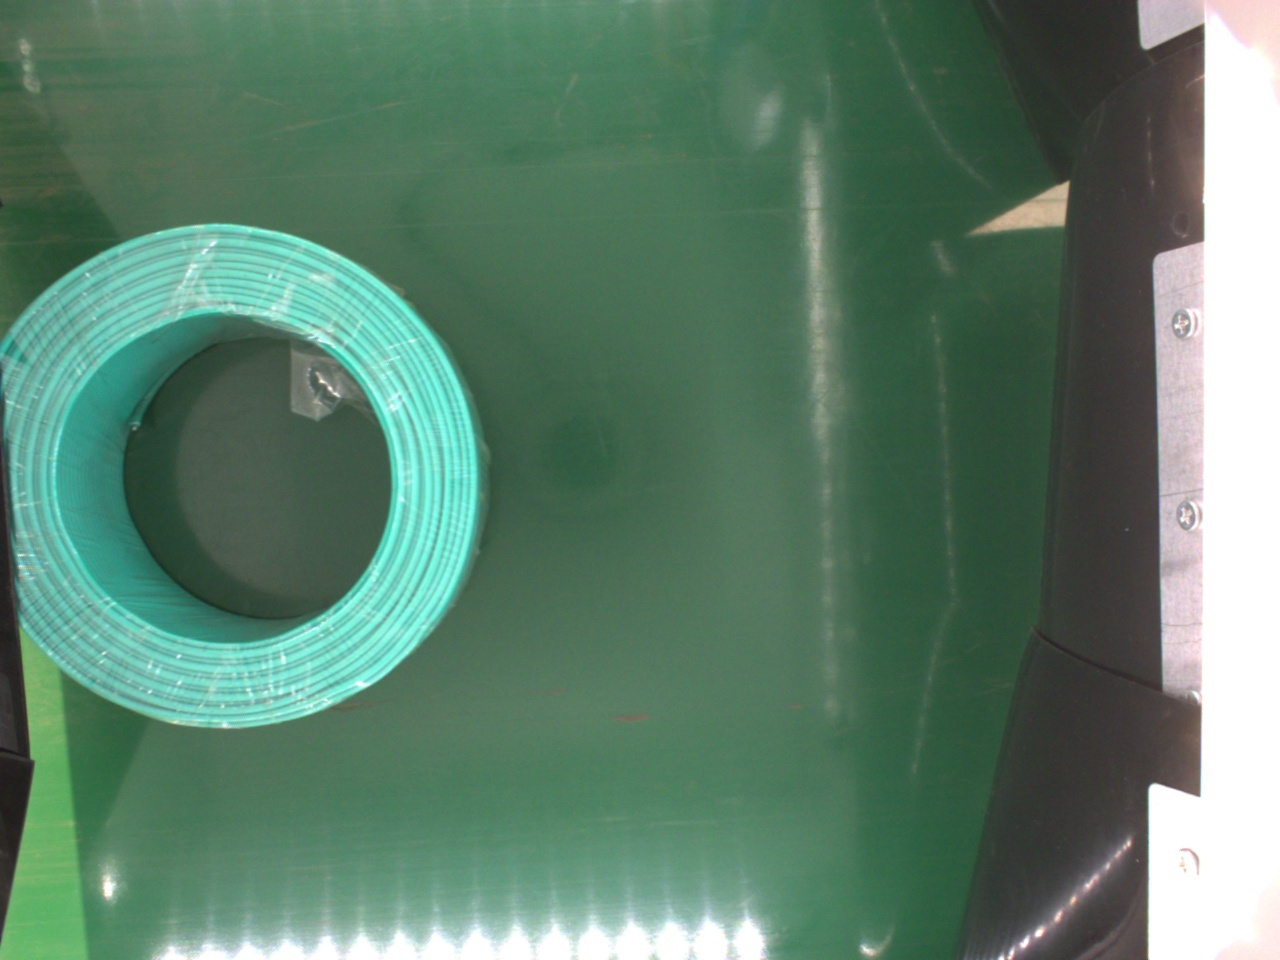green: (6, 222, 484, 733)
